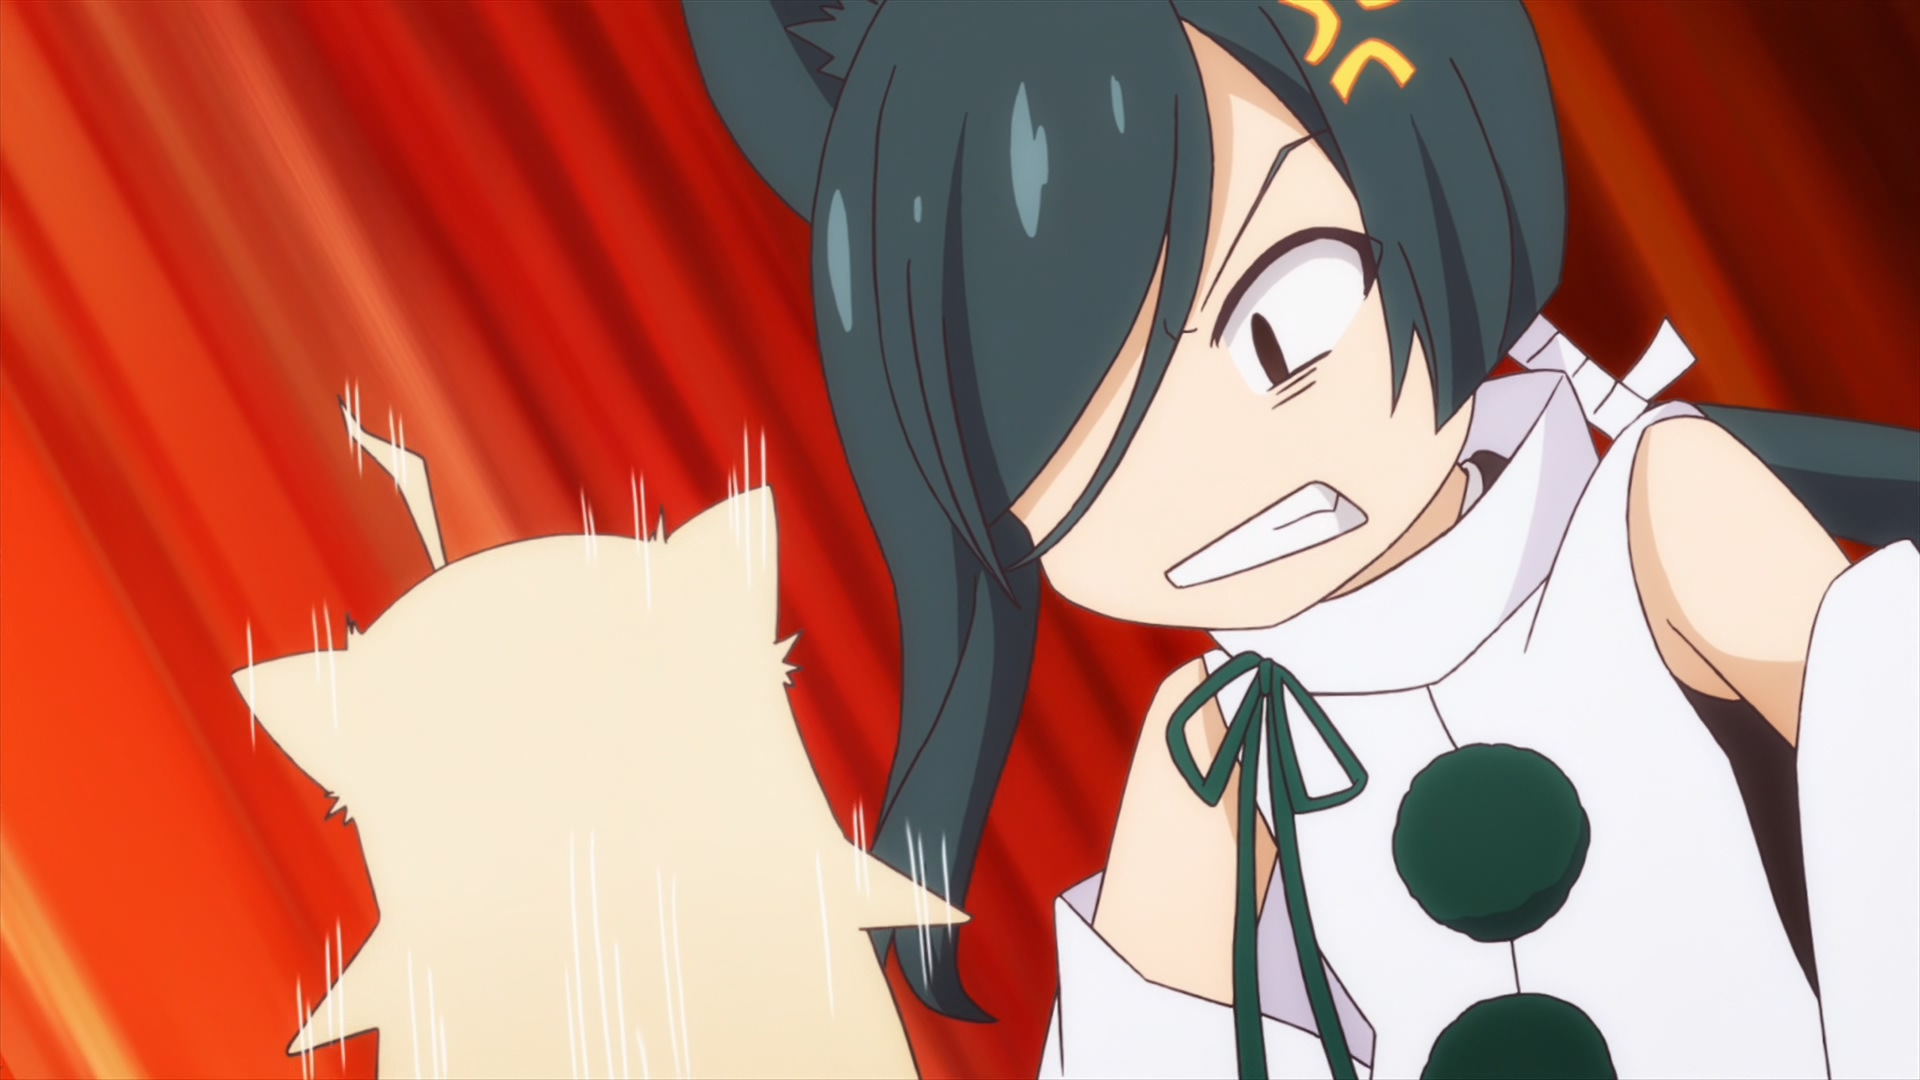其他: (680, 1, 1920, 1080)
柚: (231, 385, 978, 1080)
